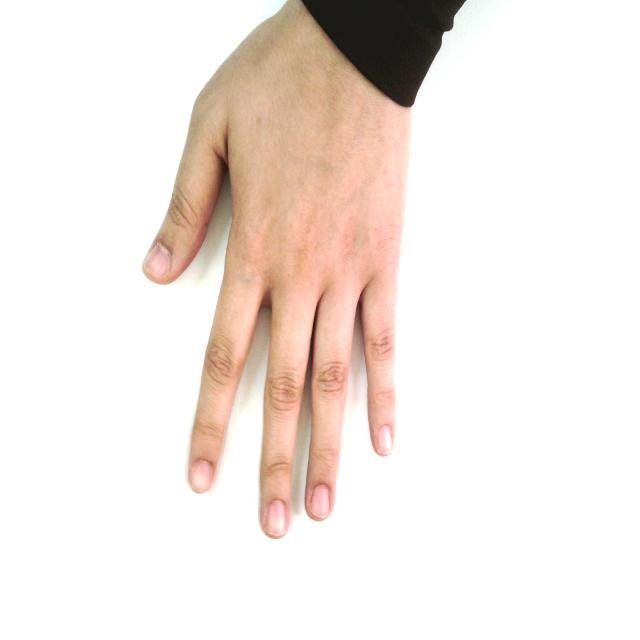Nail: (141, 240, 172, 281), (265, 498, 288, 537), (188, 459, 212, 495), (309, 484, 330, 518), (378, 424, 393, 456)
